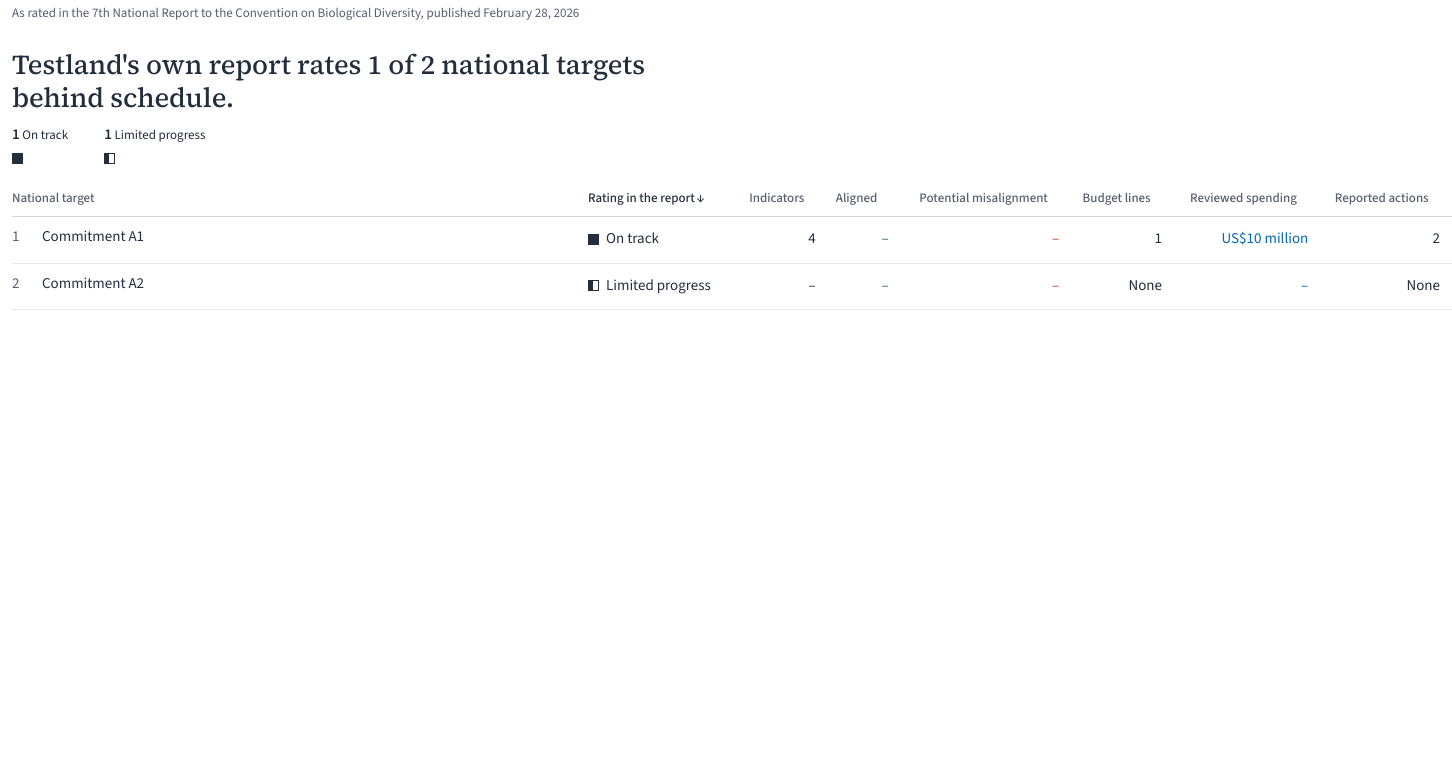
Nr7Section › offers the report's own wording beside a translation
This screenshot has width=1452, height=773.
Click the button "1 Commitment A1" at (78, 237), box x1=12 y1=227 x2=144 y2=248
(page scrolled)
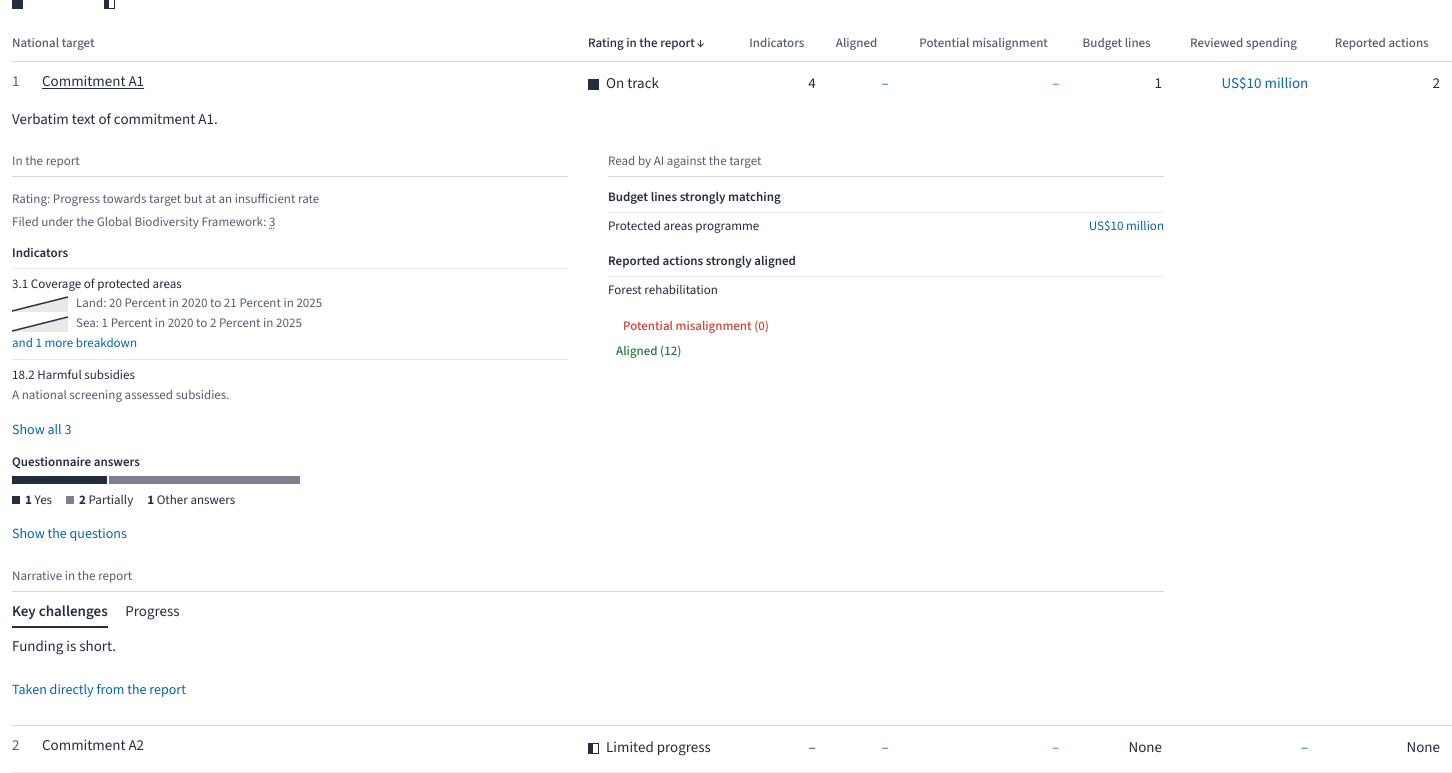
Result: the text "Funding is short." is shown at x1=12 y1=636 x2=116 y2=659
Click the button "Taken directly from the report" at (99, 690), box x1=12 y1=679 x2=186 y2=701
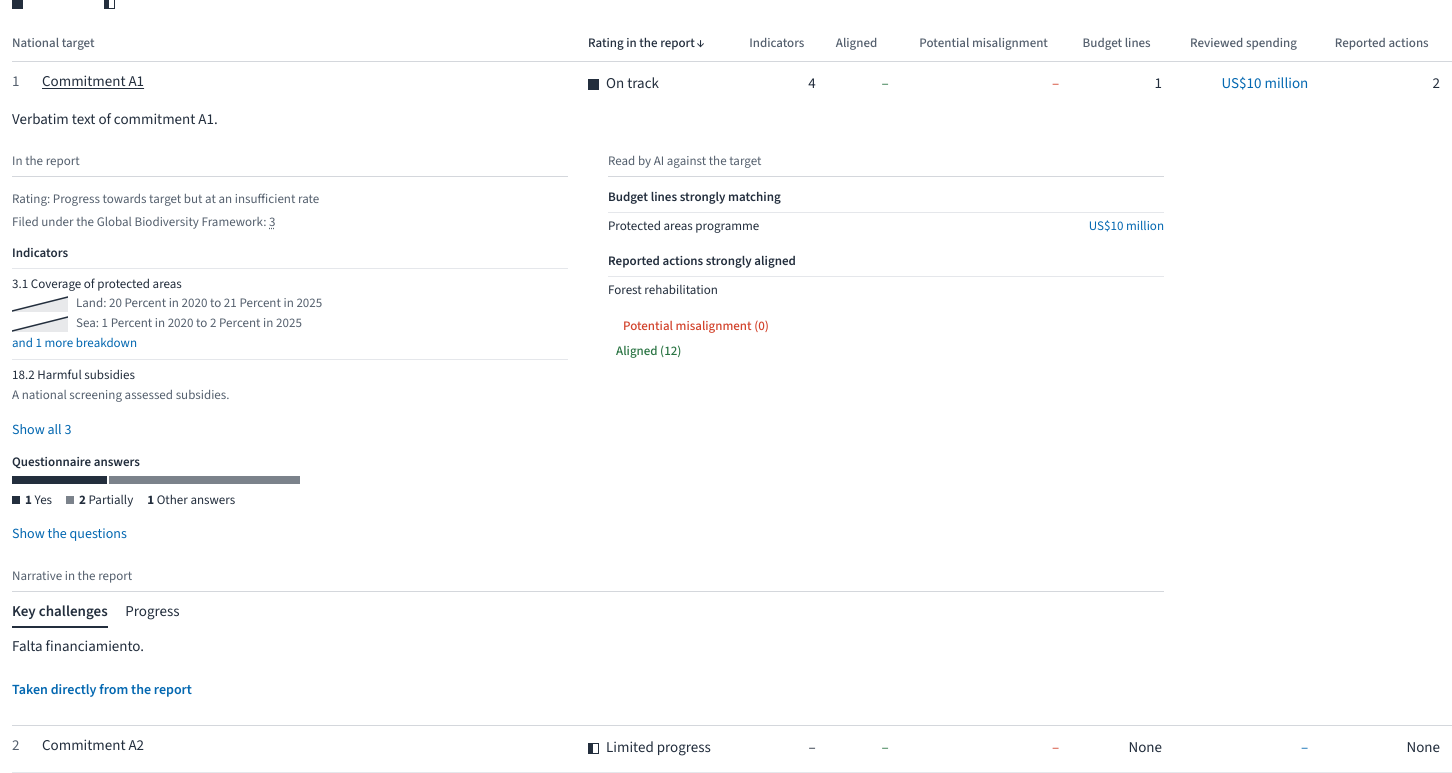
Result: the text "Falta financiamiento." is shown at x1=12 y1=636 x2=144 y2=659
